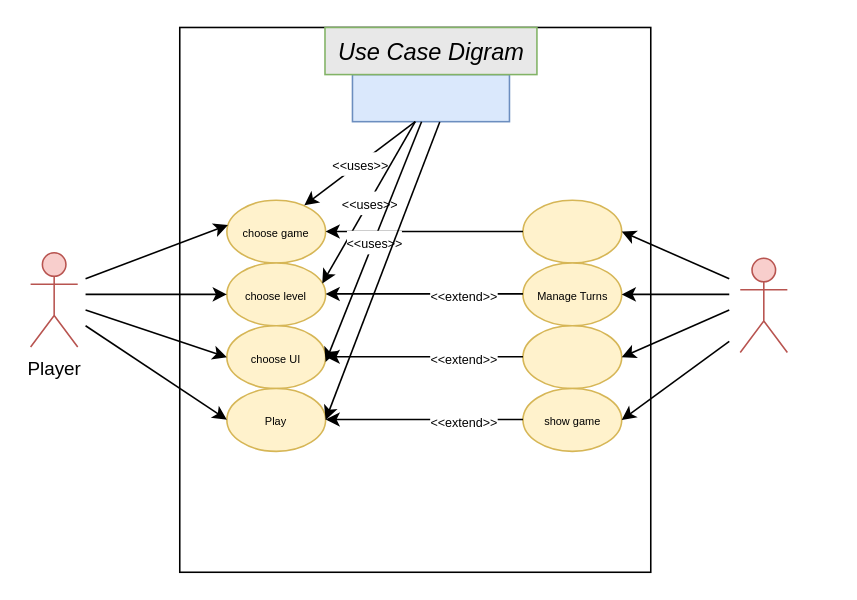
The diagram is 857 pixels wide and 600 high, and some of its shapes have lost their labels. Each missing label, with the centre of its shape:
"ComputerPlayer" belongs at pixel 430 97.
"CreateGame" belongs at pixel 571 231.
"GameController" belongs at pixel 763 304.
"Give feedback" belongs at pixel 571 356.
